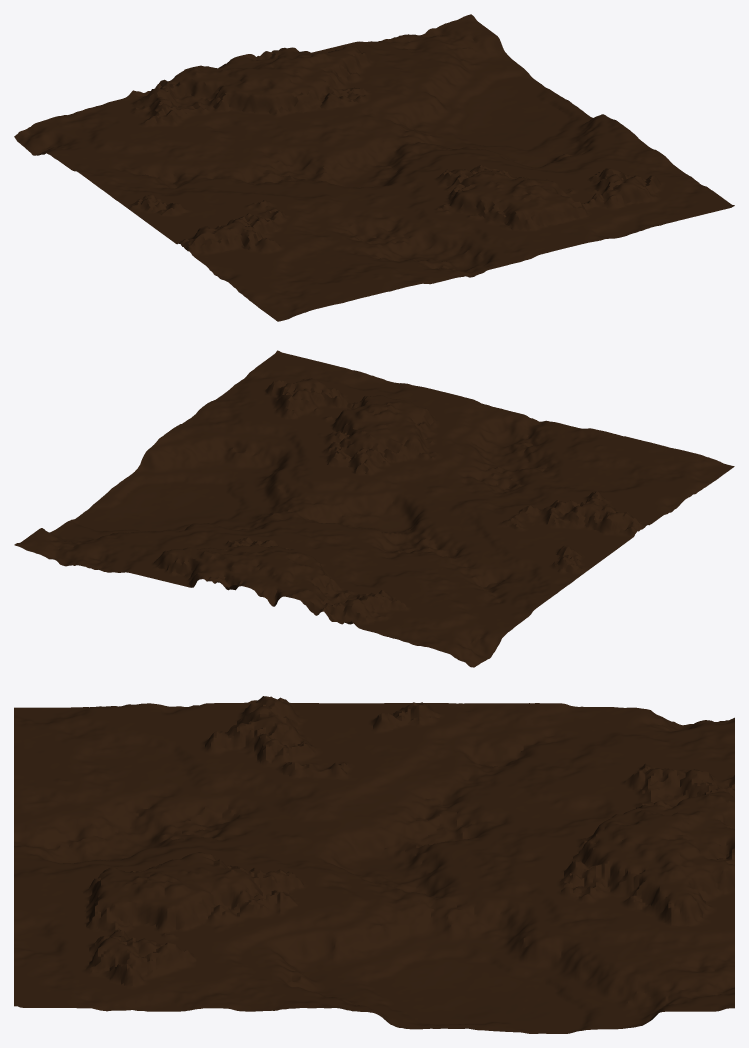
File: 2x2.3_Squares_200m_009.glb
3 views of the same model, one above another, from view 1: azimuth 30°, elevation 25°; view 2: azimuth 150°, elevation 25°; view 3: azimuth 270°, elevation 25° (orthographic). The views are drawn at different scales.
Visible parts, largest first — view 1: Cube; view 2: Cube; view 3: Cube.
Boxes of the visible parts, x1,y1,x2,y2 form: Cube: [14, 14, 734, 321]; Cube: [14, 350, 734, 667]; Cube: [14, 696, 734, 1033].
Bounding box in the file's own units: 500 × 41.43 × 500.
